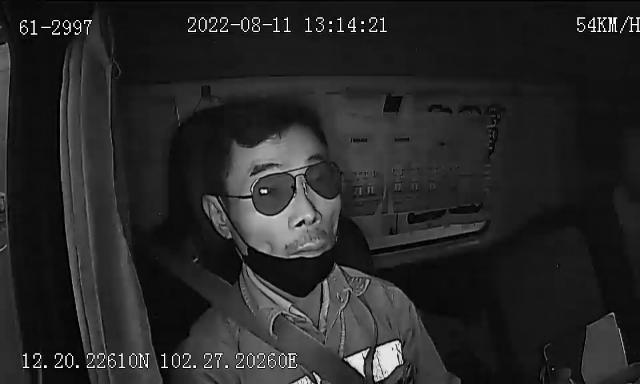SafeDriving: (418, 96, 468, 122), (254, 182, 282, 202)
Seatbelt: (165, 264, 377, 384)
